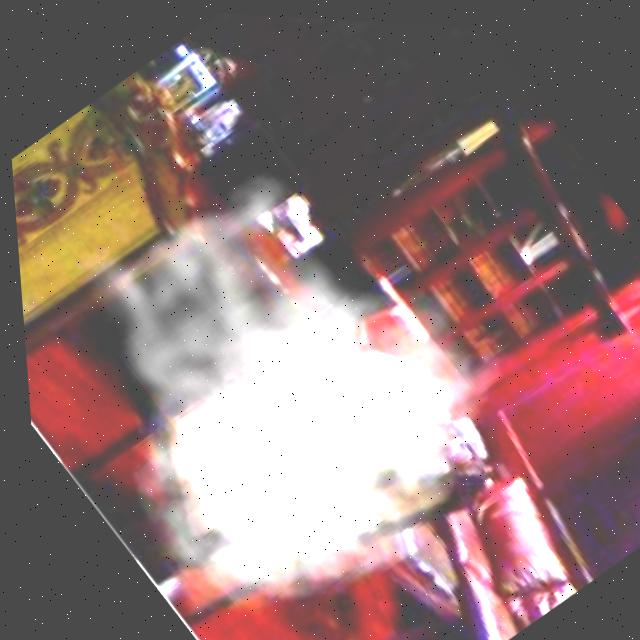Smoke: (13, 133, 518, 635)
